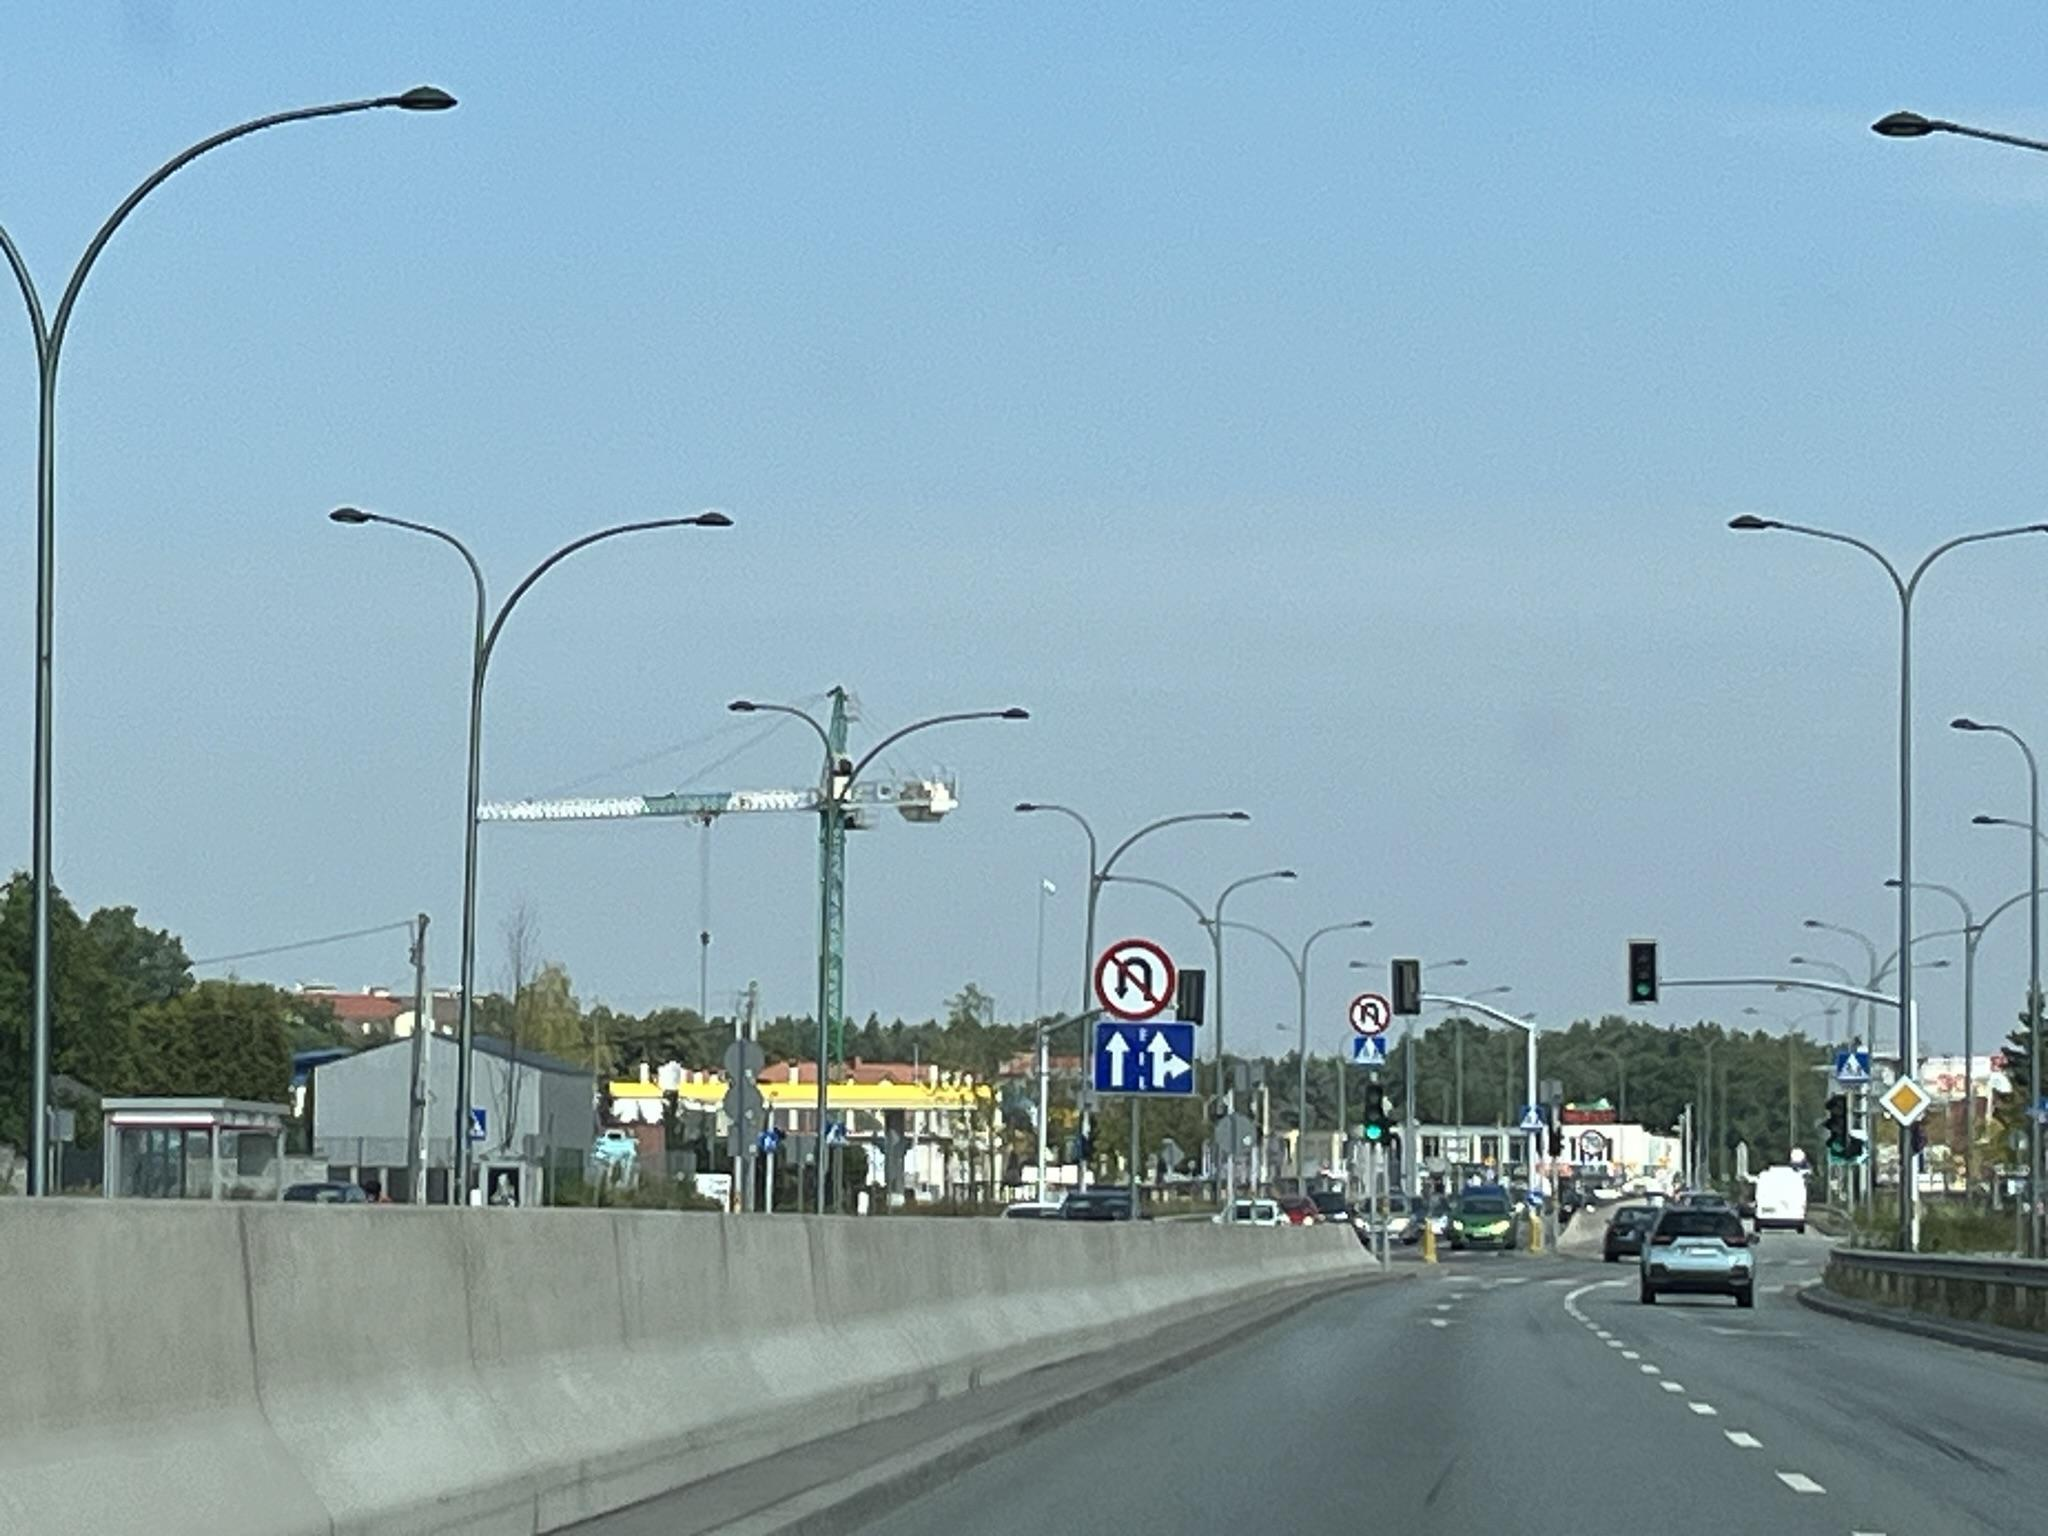information: (1879, 1075, 1933, 1128), (1836, 1052, 1872, 1086), (1353, 1035, 1387, 1068), (1518, 1105, 1546, 1132), (826, 1122, 850, 1144)
mandatory: (760, 1131, 780, 1153)
other: (1090, 1021, 1198, 1096)
prohibitory: (1092, 938, 1179, 1021), (1349, 992, 1391, 1036), (1578, 1128, 1607, 1155)
